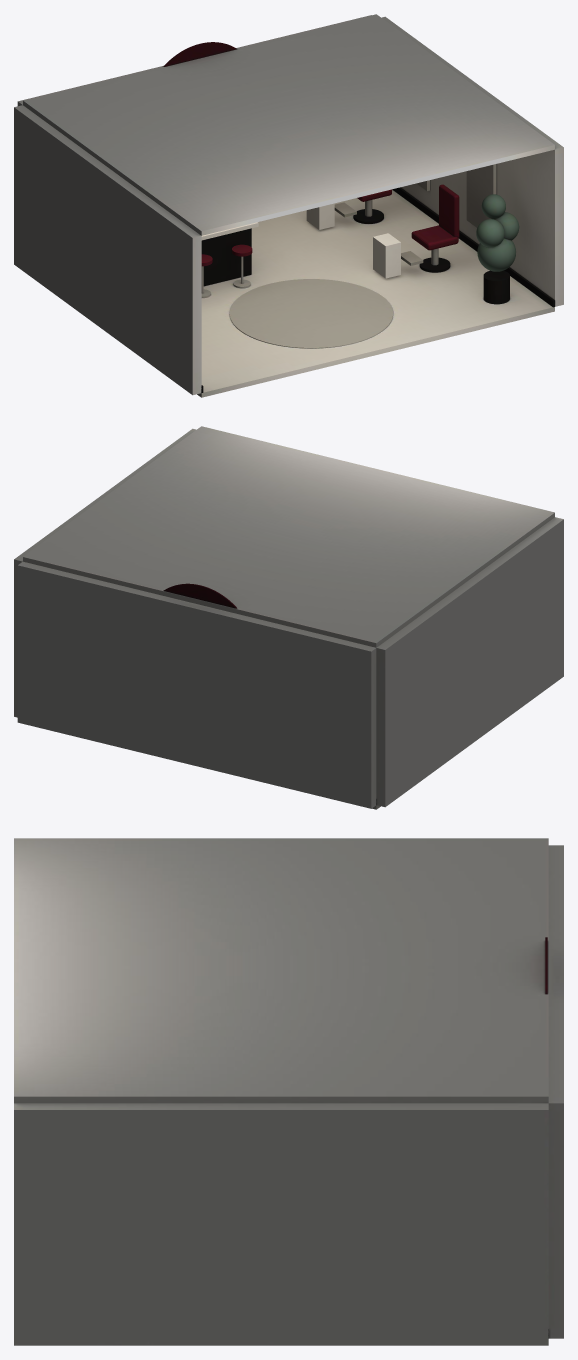
Rendered from salon.glb.
3 renders of one model, top to bottom at view 1: azimuth 30°, elevation 25°; view 2: azimuth 150°, elevation 25°; view 3: azimuth 270°, elevation 25°, orthographic. The views are drawn at different scales.
Parts seen in each view (by area): view 1: salon; view 2: salon; view 3: salon.
Boxes of the visible parts, <box> form: salon: <box>14,14,563,397</box>; salon: <box>14,426,563,809</box>; salon: <box>14,838,563,1345</box>.
Size of the model in its own units: 8.4 by 3.9 by 7.2.
Materials: 1 (1 with a texture image).
